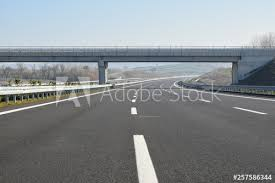strada: (0, 82, 270, 182)
